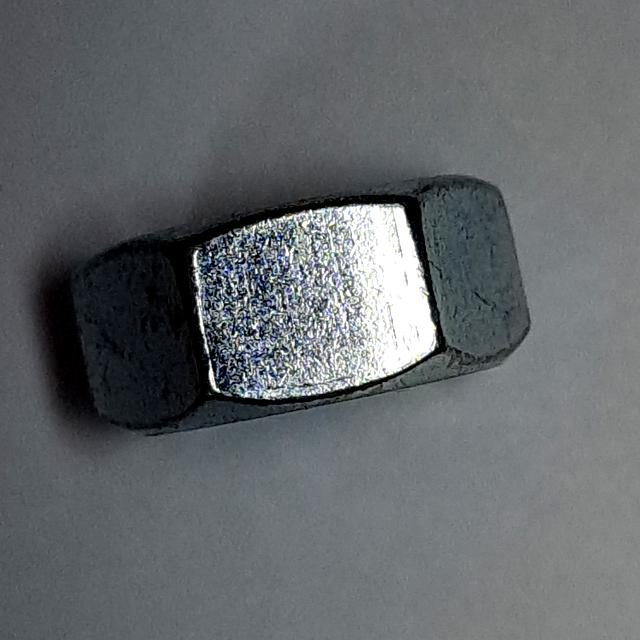Side_Excellent: (60, 158, 549, 456)
